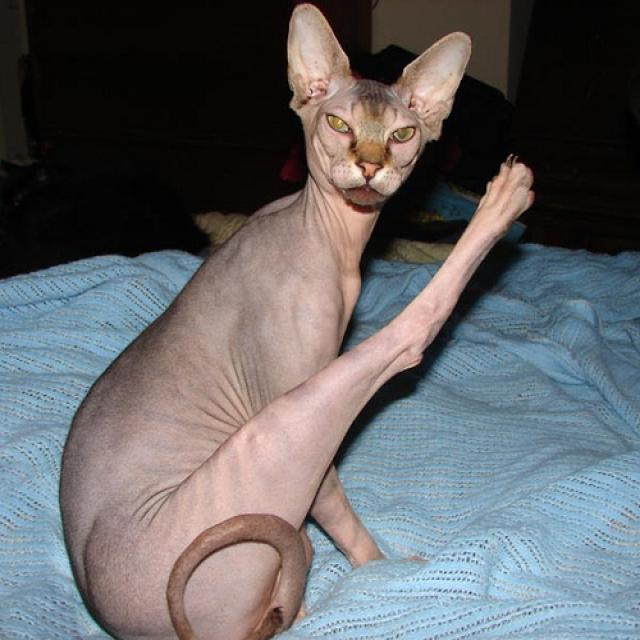Sphynx: (285, 3, 470, 203)
